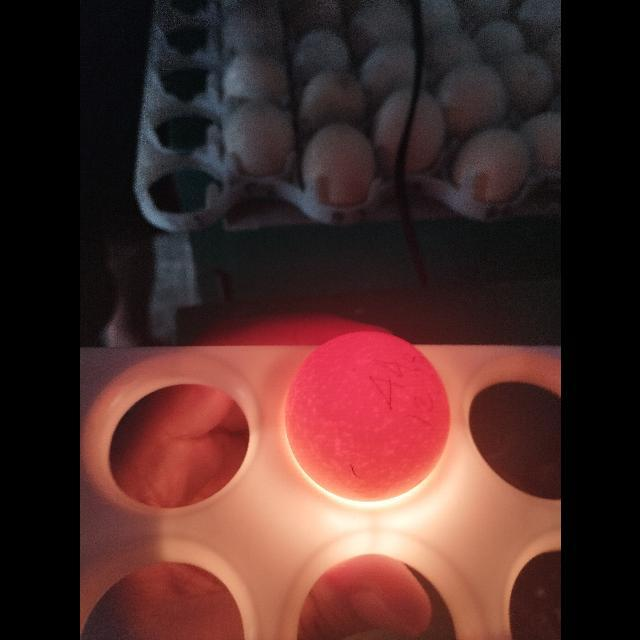Infertile: (281, 328, 453, 506)
